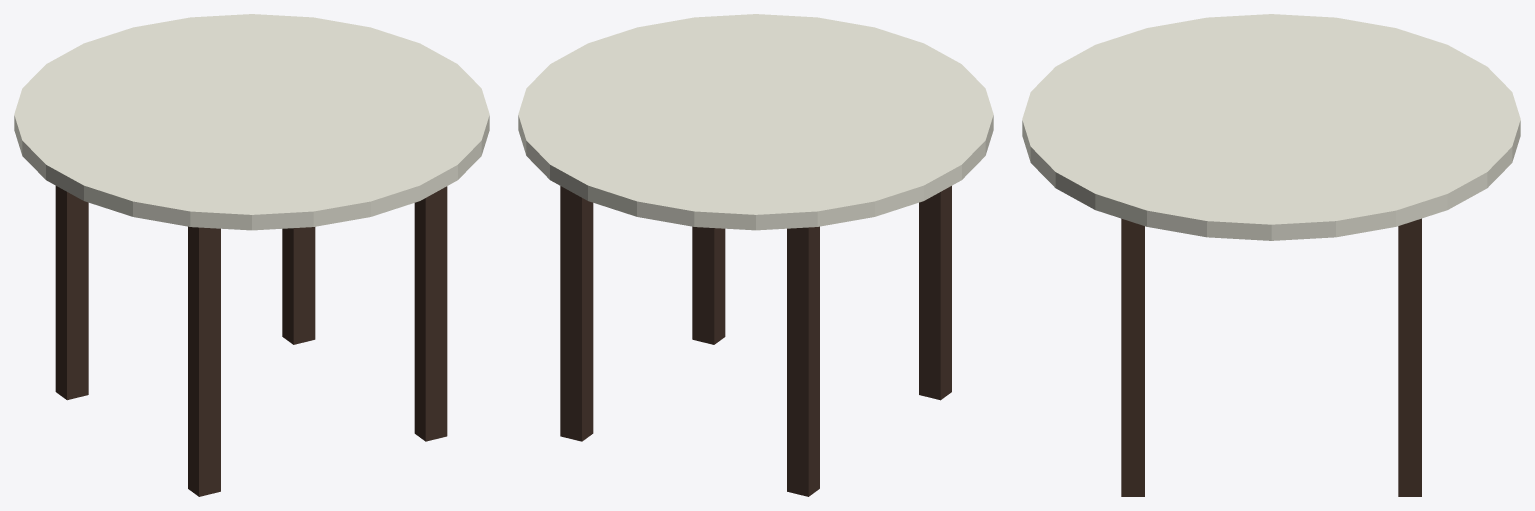
File: Pantry table.fbx
3 views of the same model, side by side, from view 1: azimuth 30°, elevation 25°; view 2: azimuth 150°, elevation 25°; view 3: azimuth 270°, elevation 25° (orthographic). The views are drawn at different scales.
Parts seen in each view (by area): view 1: Cube.179; view 2: Cube.179; view 3: Cube.179.
Boxes of the visible parts, x1=… form: Cube.179: x1=14, y1=14, x2=489, y2=496; Cube.179: x1=518, y1=14, x2=993, y2=496; Cube.179: x1=1022, y1=14, x2=1520, y2=496.
Bounding box in the file's own units: 49.09 × 34.14 × 49.09.
